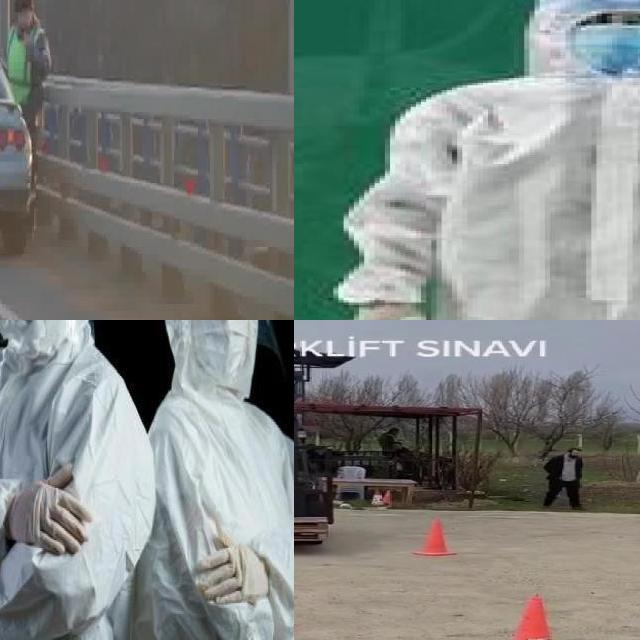Glove: (7, 461, 92, 558), (194, 545, 274, 603), (338, 300, 447, 320)
MASK: (191, 320, 251, 383), (565, 20, 640, 68)
VEST: (4, 29, 45, 108)
